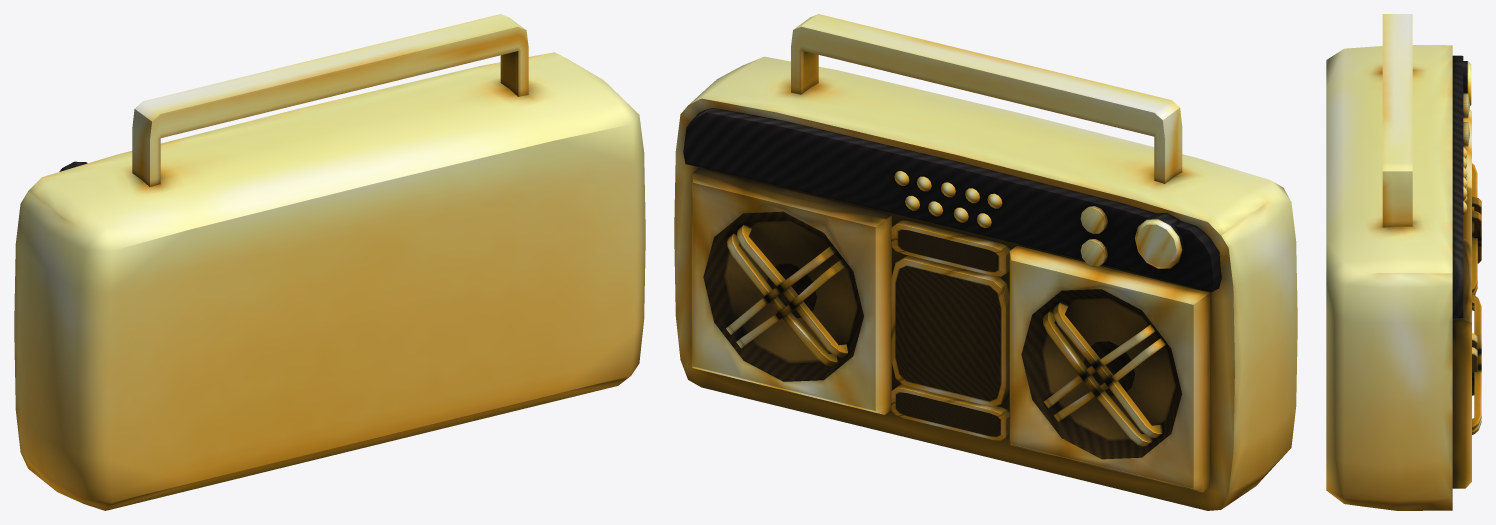
Rendered from boombox.glb.
3 renders of one model, left to right at view 1: azimuth 30°, elevation 25°; view 2: azimuth 150°, elevation 25°; view 3: azimuth 270°, elevation 25°, orthographic. The views are drawn at different scales.
Parts seen in each view (by area): view 1: Object_2; view 2: Object_2; view 3: Object_2.
Boxes of the visible parts, bbox=[...] form: Object_2: bbox=[14, 14, 645, 510]; Object_2: bbox=[674, 14, 1297, 510]; Object_2: bbox=[1326, 14, 1481, 510].
Bounding box in the file's own units: 0.7185 × 0.4331 × 0.1942.
1 material, 1 textured.
